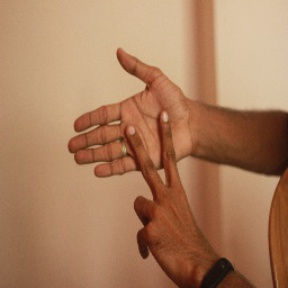N: (66, 44, 206, 255)
